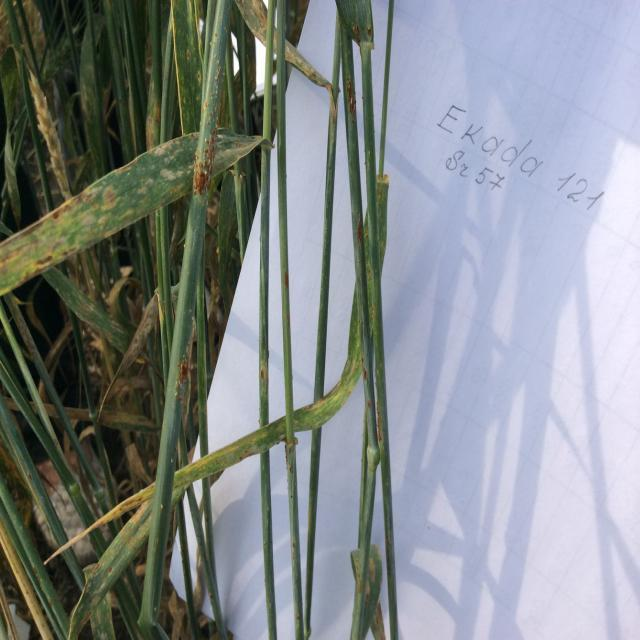Stem Rust: (6, 126, 259, 288)
